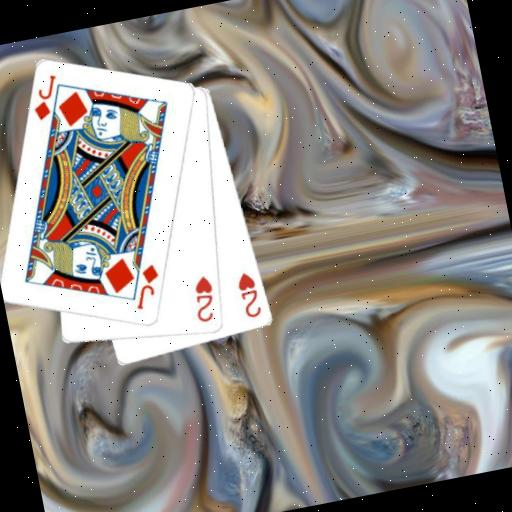2H: (187, 272, 221, 326), (233, 268, 265, 322)
JD: (126, 260, 167, 313), (26, 71, 66, 124)
